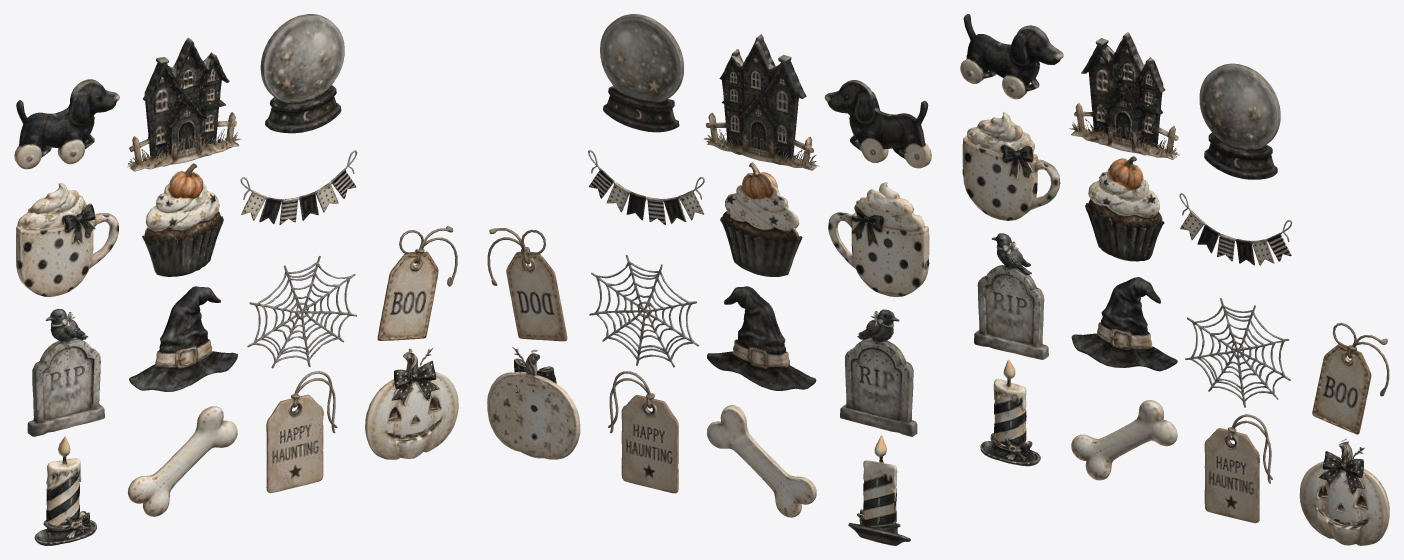
The picture shows the model from 3 angles, left to right: view 1: azimuth 30°, elevation 25°; view 2: azimuth 150°, elevation 25°; view 3: azimuth 330°, elevation 25°; orthographic projection. The views are drawn at different scales.
Visible parts, largest first — view 1: Mesh 5, Mesh 11, Mesh 2, Mesh 13, Mesh 3, Mesh 8, Mesh 12, Mesh 7, Mesh 1, Mesh 14, Mesh 6, Mesh 10 (+2 smaller); view 2: Mesh 5, Mesh 11, Mesh 2, Mesh 13, Mesh 3, Mesh 8, Mesh 12, Mesh 7, Mesh 1, Mesh 14, Mesh 6, Mesh 10 (+2 smaller); view 3: Mesh 5, Mesh 11, Mesh 2, Mesh 13, Mesh 3, Mesh 8, Mesh 12, Mesh 7, Mesh 1, Mesh 14, Mesh 10, Mesh 6 (+2 smaller).
Boxes of the visible parts, x1,y1,x2,y2 form: Mesh 5: (127,37,241,171); Mesh 11: (260,14,344,133); Mesh 2: (16,183,118,296); Mesh 13: (365,347,458,459); Mesh 3: (27,308,104,436); Mesh 8: (142,163,223,276); Mesh 12: (266,371,337,493); Mesh 7: (129,286,237,391); Mesh 1: (14,79,119,169); Mesh 14: (377,226,457,340); Mesh 6: (128,406,237,516); Mesh 10: (247,256,356,368); Mesh 5: (704,34,819,170); Mesh 11: (600,14,683,132); Mesh 2: (828,182,929,296); Mesh 13: (487,347,580,459); Mesh 3: (840,309,917,436); Mesh 8: (720,162,802,276); Mesh 12: (608,371,678,493); Mesh 7: (707,286,816,390); Mesh 1: (824,80,931,168); Mesh 14: (487,228,567,341); Mesh 6: (706,405,816,517); Mesh 10: (589,255,699,367); Mesh 5: (1069,32,1179,159); Mesh 11: (1199,63,1280,179); Mesh 2: (962,112,1060,220); Mesh 13: (1299,438,1389,545); Mesh 3: (974,233,1048,359); Mesh 8: (1085,156,1164,261); Mesh 12: (1204,414,1272,523); Mesh 7: (1071,277,1177,371); Mesh 1: (960,14,1063,99); Mesh 14: (1312,322,1389,434); Mesh 10: (1185,298,1290,407); Mesh 6: (1071,400,1177,480).
Bounding box in the file's own units: 1.85 × 1.9 × 0.0678.
Materials: 14 (14 with a texture image).
